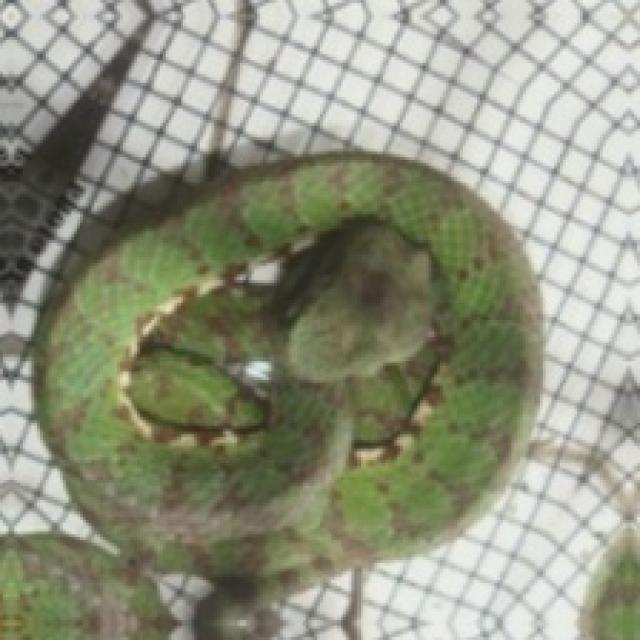philippine pitviper: (37, 154, 540, 637)
